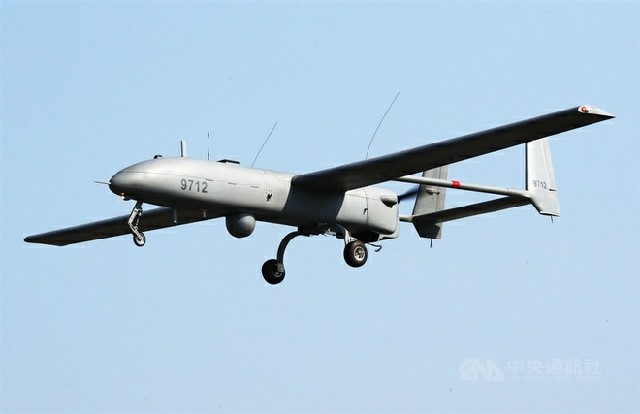maybay_khongnguoilai: (32, 105, 607, 285)
